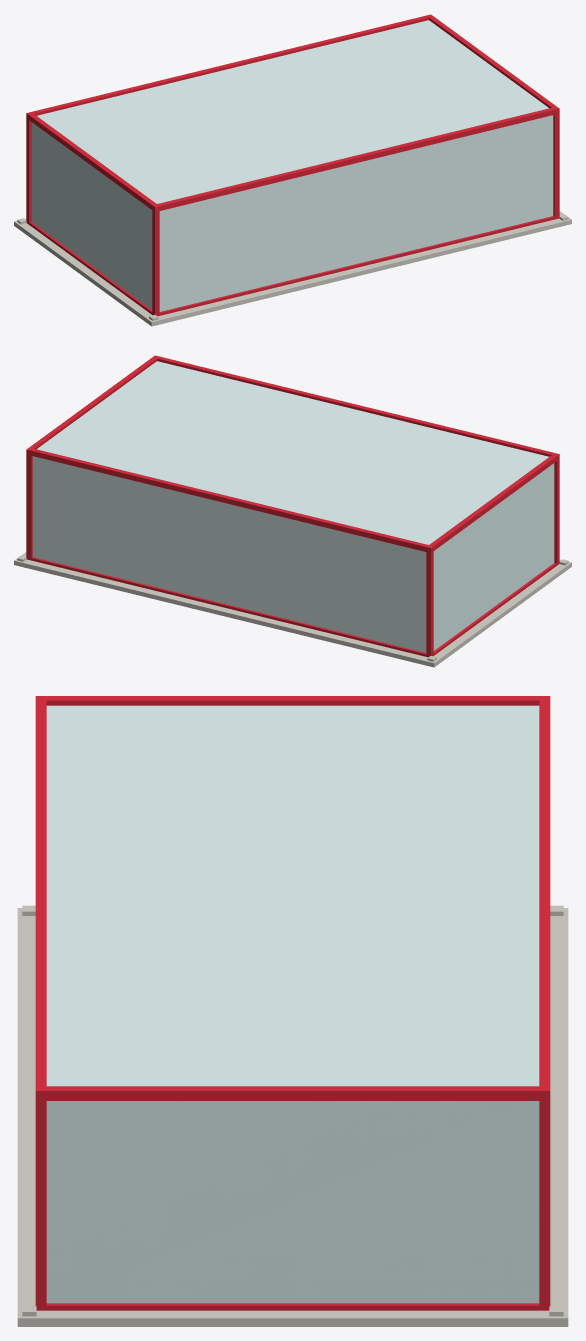
Rendered from pagani-imola.glb.
3 views of the same model, one above another, from view 1: azimuth 30°, elevation 25°; view 2: azimuth 150°, elevation 25°; view 3: azimuth 270°, elevation 25° (orthographic). The views are drawn at different scales.
Size of the model in its own units: 0.615 by 0.1595 by 0.349.
